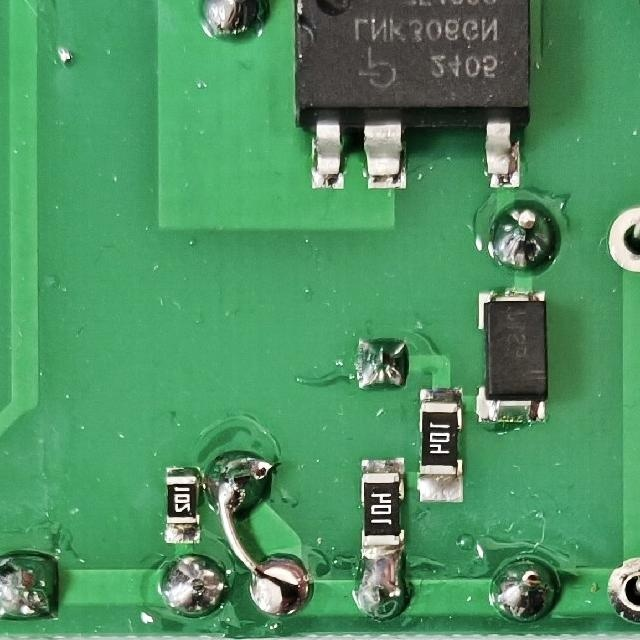chip-resistor: (414, 382, 466, 505), (357, 453, 407, 559), (160, 462, 203, 546)
diode: (472, 285, 552, 431)
ic: (284, 0, 536, 194)
